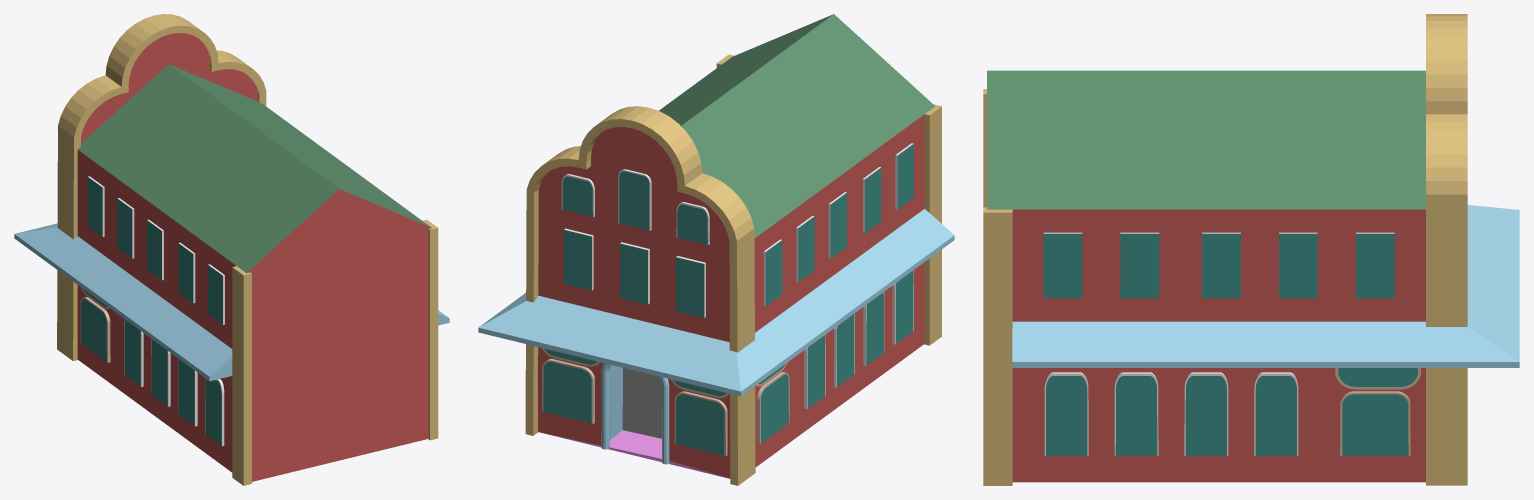
File: edifci_3.fbx
3 views of the same model, side by side, from view 1: azimuth 30°, elevation 25°; view 2: azimuth 150°, elevation 25°; view 3: azimuth 270°, elevation 25° (orthographic). The views are drawn at different scales.
Visible parts, largest first — view 1: Cube.005, Cube, Cylinder.023, Cylinder.020, Cube.004, Cube.002, Cylinder.014, Cylinder.015, Cylinder.017, Cylinder.016, Cylinder.018, Cube.012 (+4 smaller); view 2: Cube.005, Cube, Cylinder.023, Cylinder.020, Cube.004, Cylinder.005, Cylinder.006, Cylinder.019, Cylinder.014, Cube.006, Cube.001, Cube.003 (+12 smaller); view 3: Cube.005, Cube, Cylinder.023, Cube.002, Cylinder.008, Cylinder.010, Cylinder.009, Cylinder.011, Cylinder.012, Cube.016, Cube.015, Cube.011 (+3 smaller).
Part boxes in pixels (x1,y1,x2,y2): Cube.005: [77, 64, 431, 481]; Cube: [14, 223, 449, 381]; Cylinder.023: [57, 14, 266, 360]; Cylinder.020: [81, 33, 257, 143]; Cube.004: [232, 266, 251, 485]; Cube.002: [422, 219, 438, 440]; Cylinder.014: [80, 297, 110, 362]; Cylinder.015: [205, 378, 224, 446]; Cylinder.017: [151, 339, 170, 406]; Cylinder.016: [178, 359, 197, 426]; Cylinder.018: [124, 319, 143, 386]; Cube.012: [178, 242, 195, 303]; Cube.005: [538, 14, 934, 478]; Cube: [478, 209, 954, 396]; Cylinder.023: [525, 106, 755, 485]; Cylinder.020: [538, 127, 729, 248]; Cube.004: [924, 104, 941, 345]; Cylinder.005: [674, 391, 727, 456]; Cylinder.006: [542, 359, 594, 423]; Cylinder.019: [618, 169, 651, 230]; Cylinder.014: [757, 372, 789, 443]; Cube.006: [563, 228, 593, 290]; Cube.001: [620, 242, 649, 304]; Cube.003: [676, 256, 705, 317]; Cube.005: [987, 70, 1425, 482]; Cube: [1012, 205, 1519, 367]; Cylinder.023: [1426, 14, 1467, 485]; Cube.002: [983, 207, 1012, 485]; Cylinder.008: [1340, 391, 1410, 455]; Cylinder.010: [1254, 372, 1298, 455]; Cylinder.009: [1184, 372, 1228, 455]; Cylinder.011: [1114, 372, 1158, 455]; Cylinder.012: [1044, 372, 1088, 455]; Cube.016: [1120, 232, 1159, 298]; Cube.015: [1043, 232, 1082, 298]; Cube.011: [1279, 232, 1317, 298].
Size of the model in its own units: 515 by 636 by 767.
